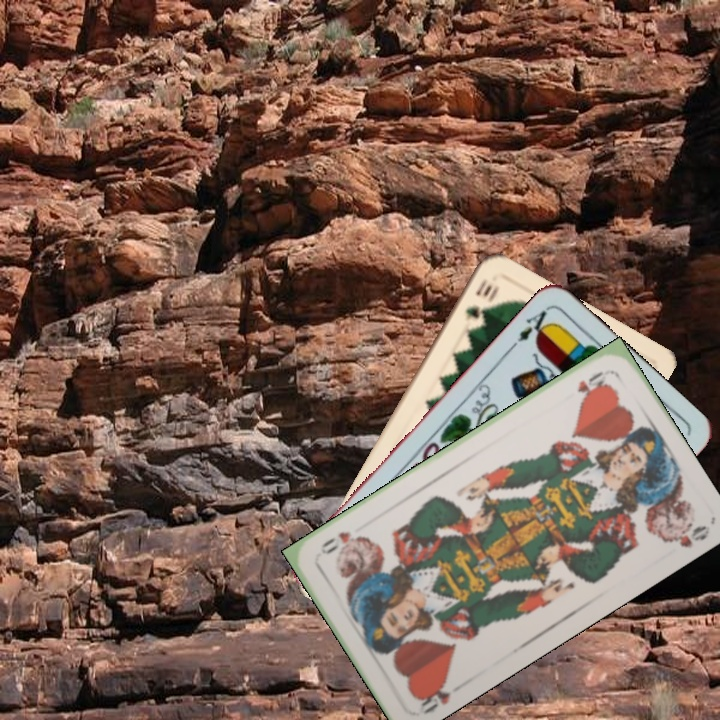EA: (513, 304, 555, 345)
G10: (461, 274, 500, 323)
HO: (412, 674, 453, 718), (573, 367, 607, 401)
